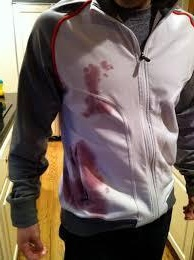wine: (76, 138, 104, 211), (76, 95, 116, 119), (81, 63, 99, 113), (64, 157, 80, 202), (98, 61, 115, 78)
